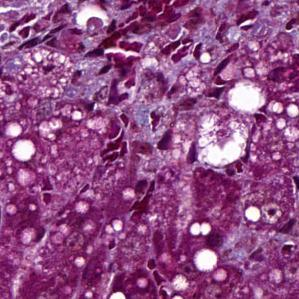ballooning: (194, 107, 251, 171), (225, 73, 270, 116)
